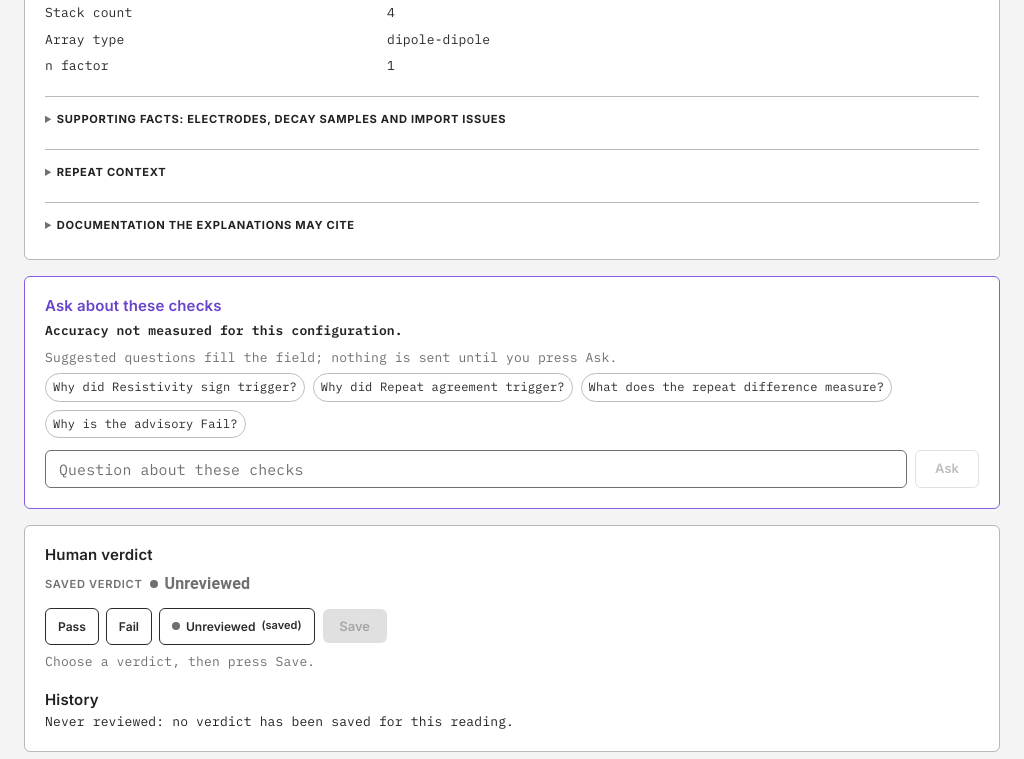
reviewing › writes only on Save, then shows the verdict, reason and history the server returns
The image size is (1024, 759).
(page scrolled)
Click the button "Pass" at (72, 626), box [45,608,99,645]
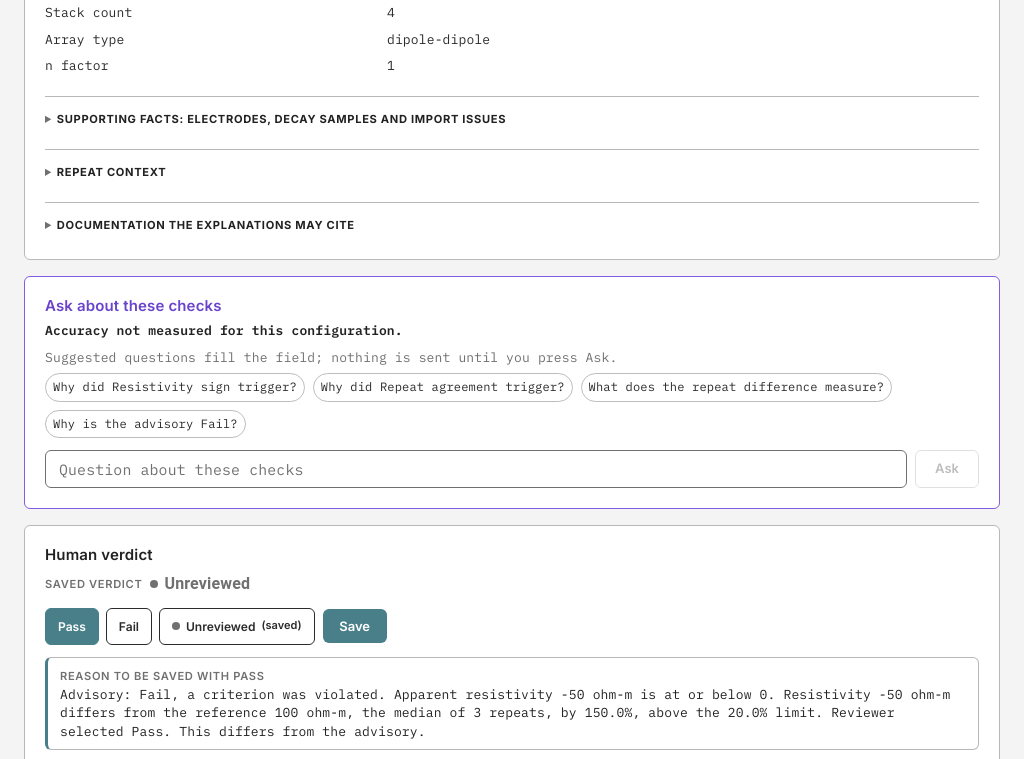
Click the button "Save" at (355, 626), box [323,609,387,644]
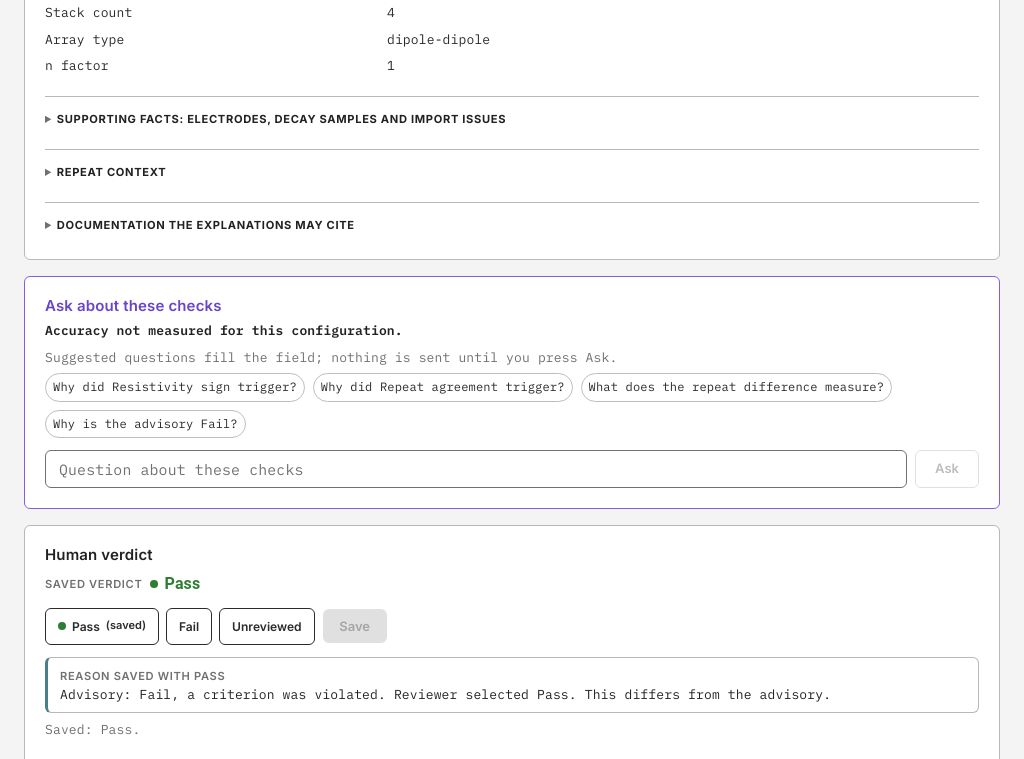
Now the element "Reason saved with Pass" is shown, box [45,657,979,713]
Now the text "Saved: Pass." is shown, box [45,721,140,738]
